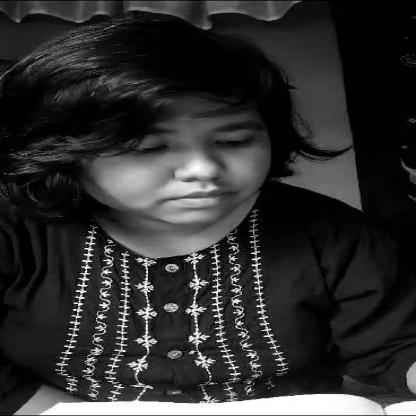Normal: (46, 47, 298, 228)
